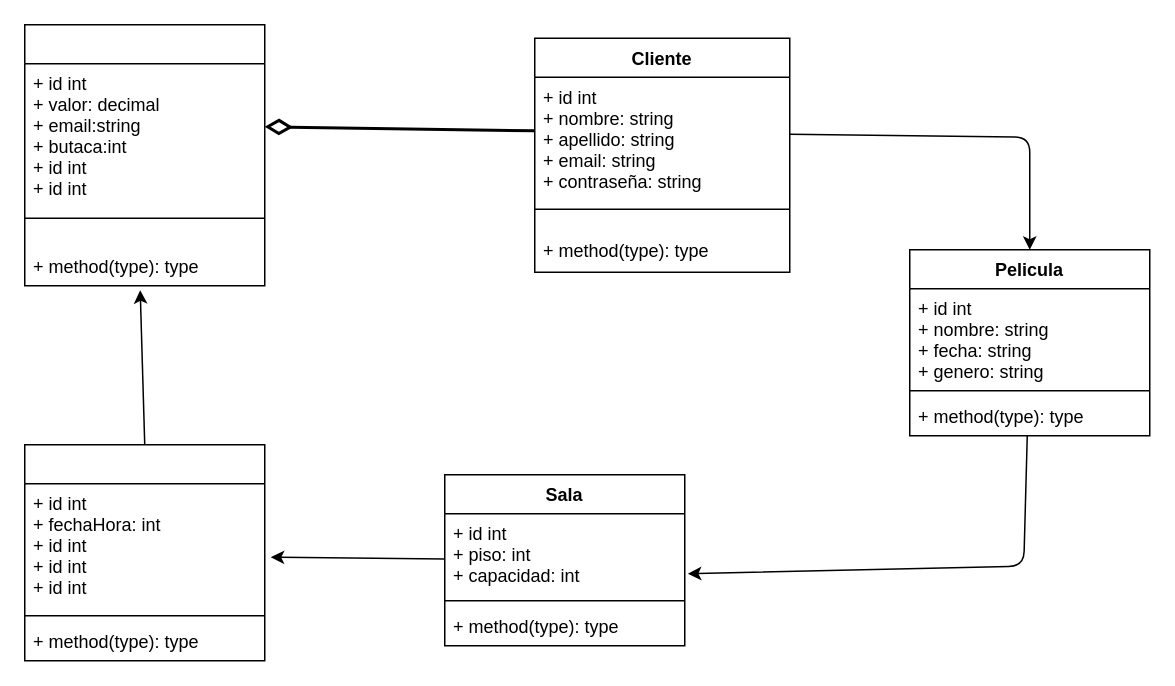
The diagram is 1175 pixels wide and 686 high, and some of its shapes have lost their labels. The box of each missing label's shape, as (x1, y1, x2, y2) in pixels:
Entrada: (23, 23, 265, 286)
Proyeccion: (23, 443, 265, 661)
